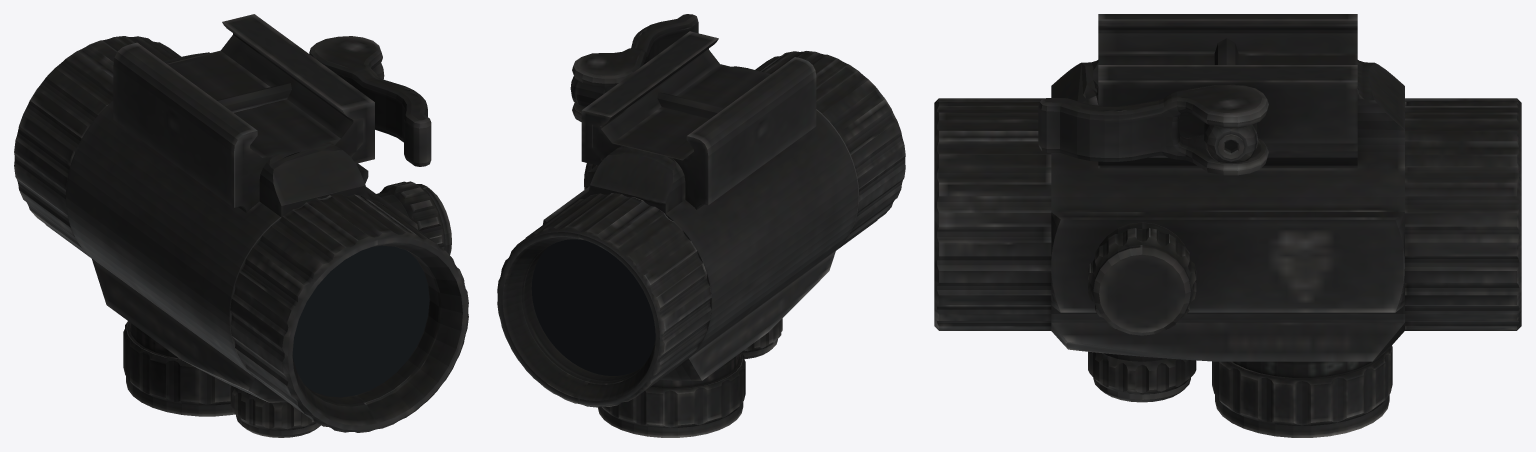
3 views of the same model, side by side, from view 1: azimuth 30°, elevation 25°; view 2: azimuth 150°, elevation 25°; view 3: azimuth 270°, elevation 25° (orthographic). The views are drawn at different scales.
Visible parts, largest first — view 1: TW_6165ac8c290d254f5e6b2f6c_PZ_Import; view 2: TW_6165ac8c290d254f5e6b2f6c_PZ_Import; view 3: TW_6165ac8c290d254f5e6b2f6c_PZ_Import.
Part boxes in pixels (box(x1,y1,x2,y2)): TW_6165ac8c290d254f5e6b2f6c_PZ_Import: box(14, 14, 468, 437); TW_6165ac8c290d254f5e6b2f6c_PZ_Import: box(497, 14, 905, 437); TW_6165ac8c290d254f5e6b2f6c_PZ_Import: box(934, 14, 1521, 437).
Bounding box in the file's own units: 0.0287 × 0.0554 × 0.0378.
Materials: 1 (1 with a texture image).
